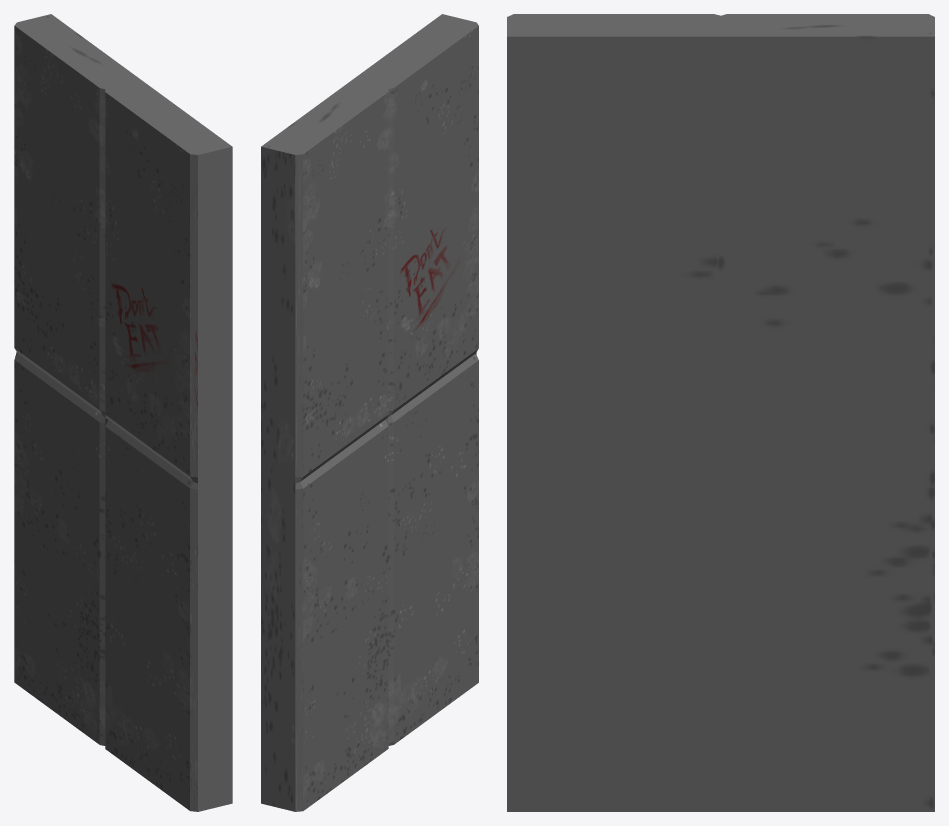
The model's file is Concrete_Wall_Slogan.fbx.
The picture shows the model from 3 angles, left to right: view 1: azimuth 30°, elevation 25°; view 2: azimuth 150°, elevation 25°; view 3: azimuth 270°, elevation 25°; orthographic projection. The views are drawn at different scales.
Visible parts, largest first — view 1: Concrete_Wall_Slogan; view 2: Concrete_Wall_Slogan; view 3: Concrete_Wall_Slogan.
Part boxes in pixels (bbox=[...]): Concrete_Wall_Slogan: bbox=[14, 14, 232, 811]; Concrete_Wall_Slogan: bbox=[261, 14, 478, 811]; Concrete_Wall_Slogan: bbox=[507, 14, 934, 811].
Size of the model in its own units: 25.19 by 400 by 200.
Materials: 1 (1 with a texture image).
